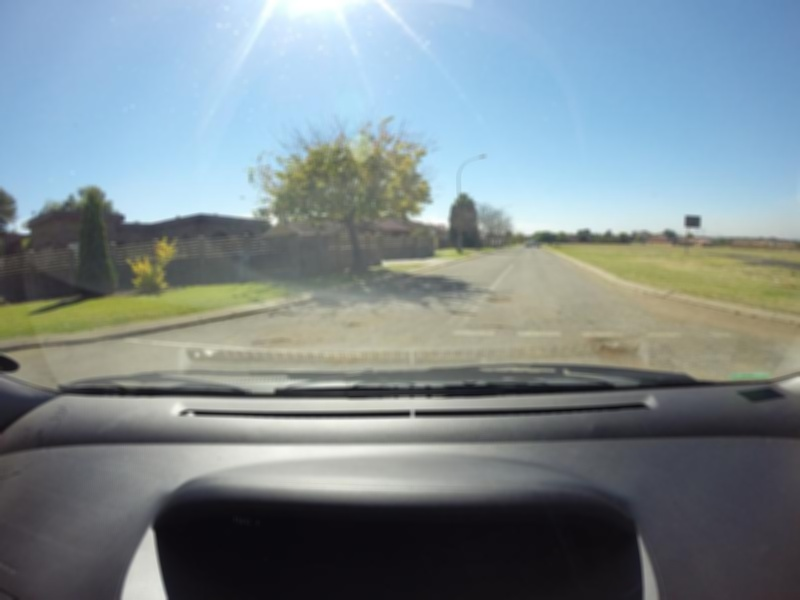pothole: (250, 332, 312, 350), (599, 338, 640, 365), (467, 321, 524, 330), (487, 289, 507, 307)
